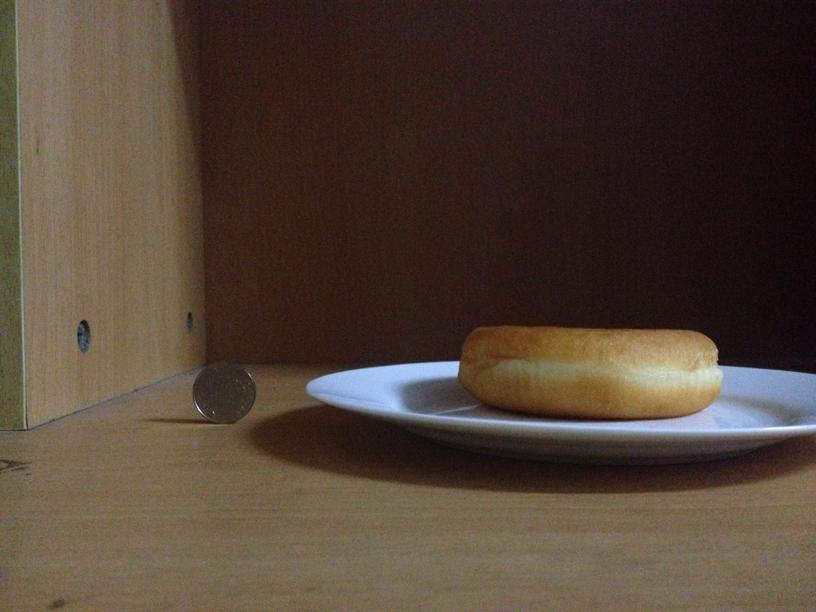coin: (189, 364, 256, 425)
doughnut: (457, 323, 720, 421)
